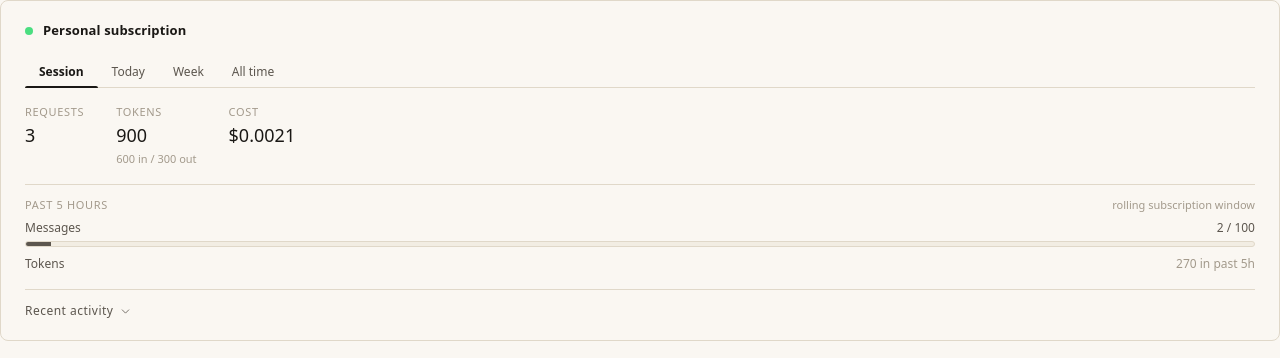
Scenario: PersonalUsageTile — with key configured › switches to Today tab and shows today stats
Click the tab "Today". click: point(128, 72)
box: x1=98 y1=56 x2=159 y2=86
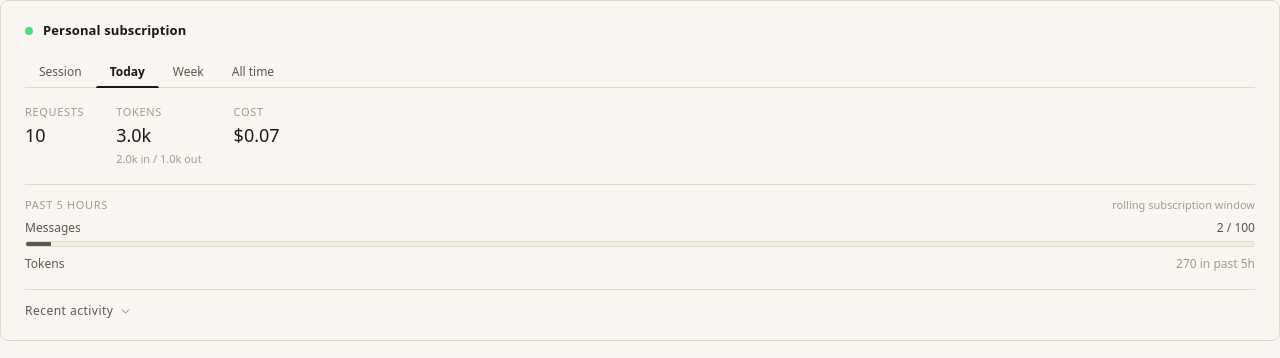
Expected: the text "$0.07" is shown, x1=234 y1=122 x2=280 y2=149
Expected: the text "10" is shown, x1=25 y1=123 x2=46 y2=147
